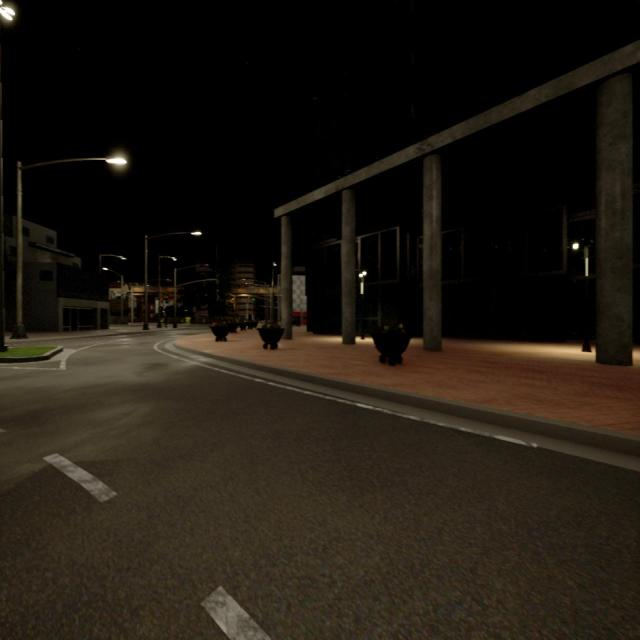traffic_light: (252, 298, 255, 302)
